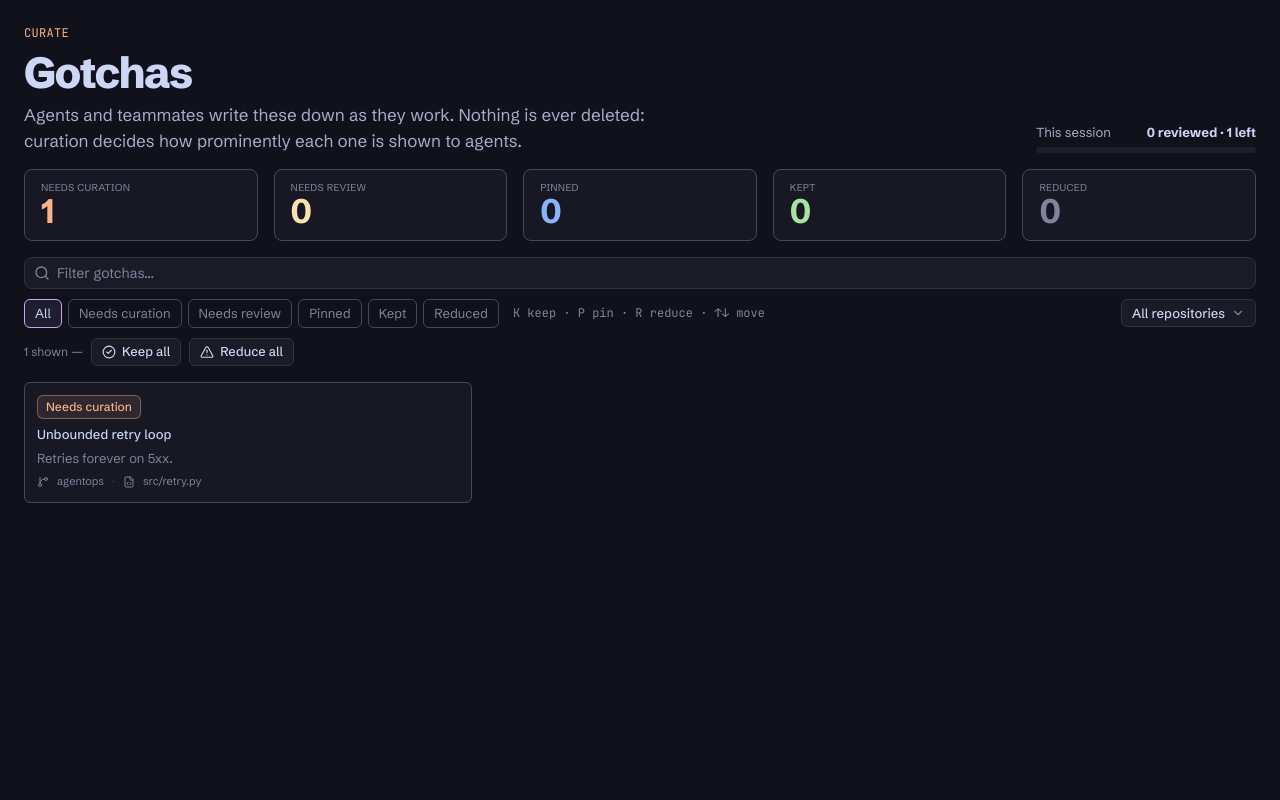
it: GotchasPage › pressing R opens the reduce-reason dialog for the selected gotcha
The width and height of the screenshot is (1280, 800).
Click the text "Unbounded retry loop".
click(104, 434)  # box left=37, top=425, right=171, bottom=443
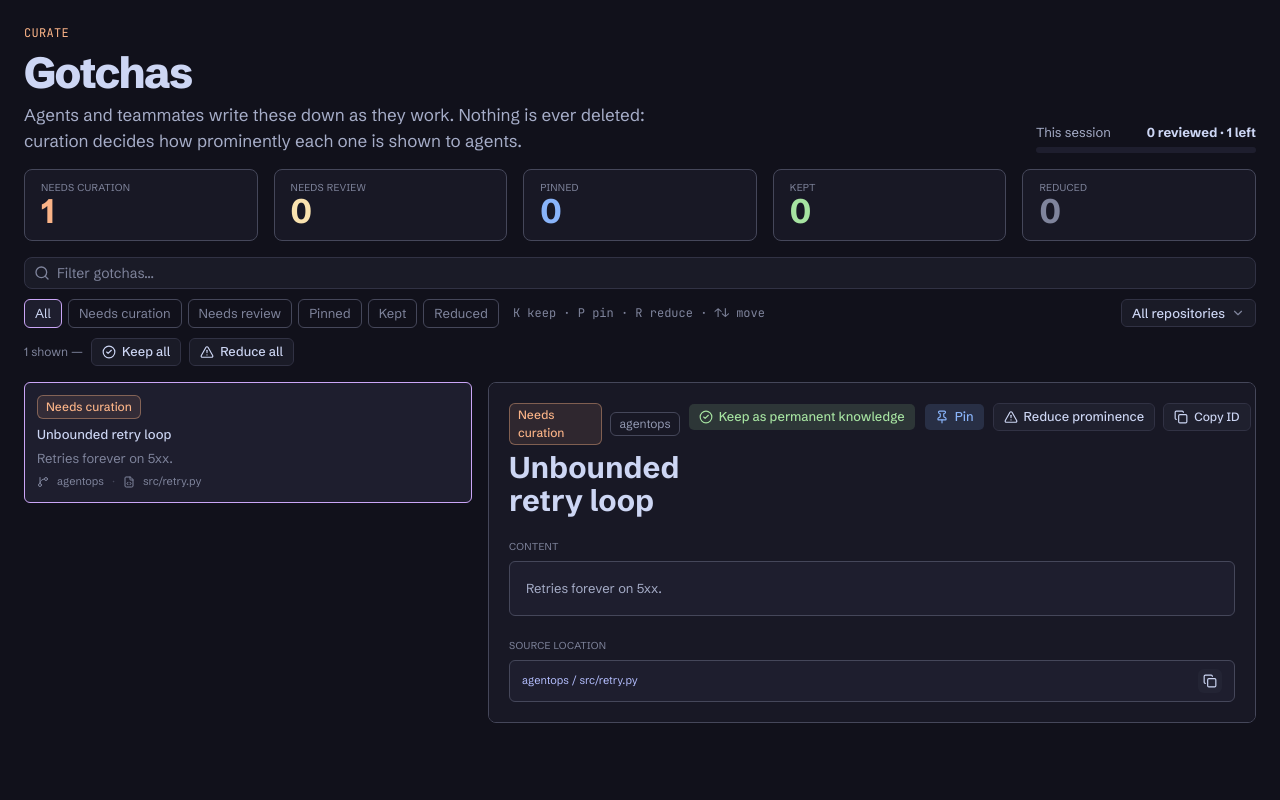
Expected: the button "Keep as permanent knowledge" is shown, left=688, top=403, right=916, bottom=431
Press r
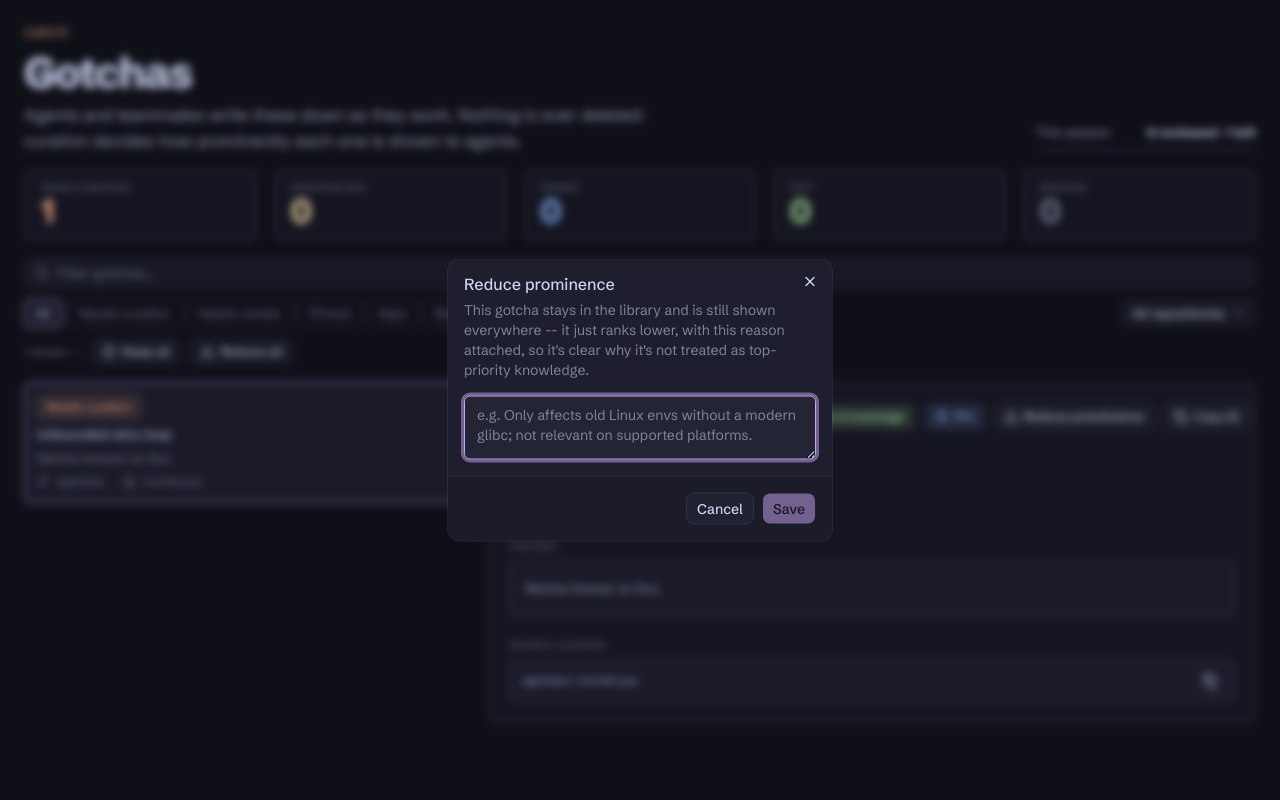
Expected: the button "Save" is shown, left=762, top=492, right=816, bottom=524
